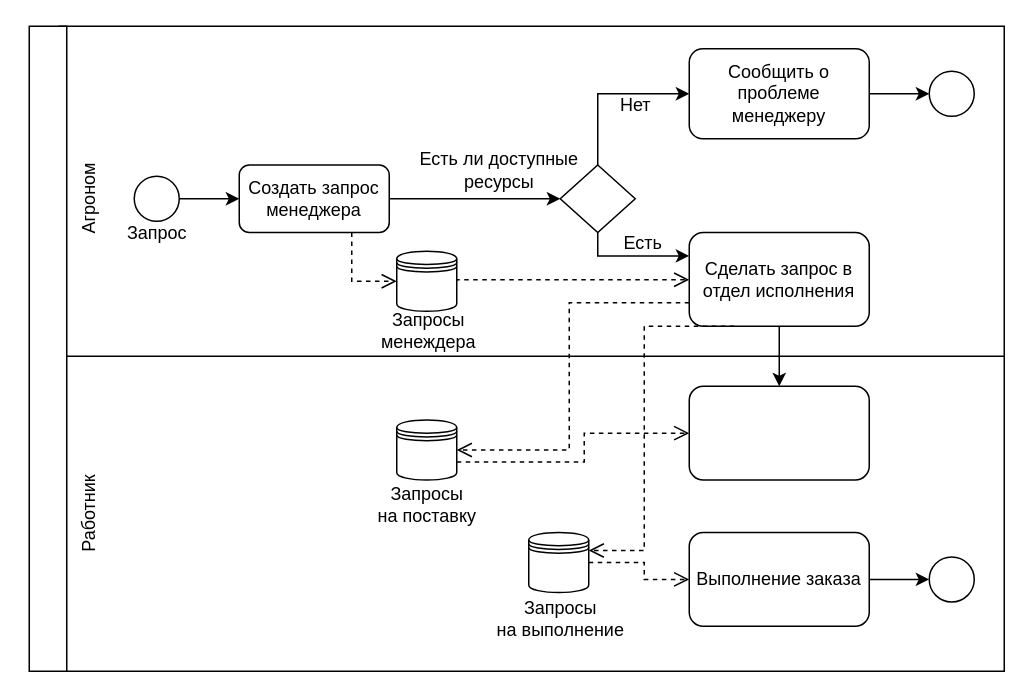
The diagram is 1031 pixels wide and 698 high, and some of its shapes have lost their labels. Here are the shapes that lost their labels. From the top down, the centre of each, then its label:
(47,348): Обеспечение заказа
(778,432): Сделать заказ поставщику
